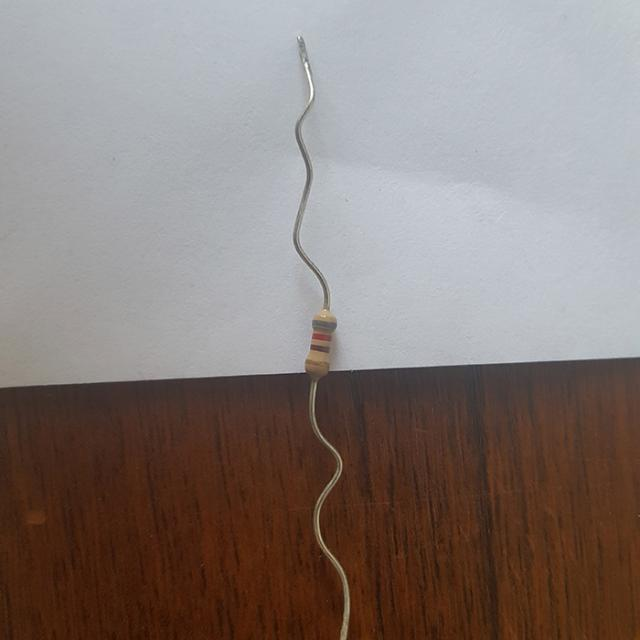brown: (311, 346, 328, 352)
gold: (305, 358, 327, 366)
grey: (313, 320, 335, 328)
red: (314, 333, 330, 340)
resistor: (303, 308, 336, 381)
